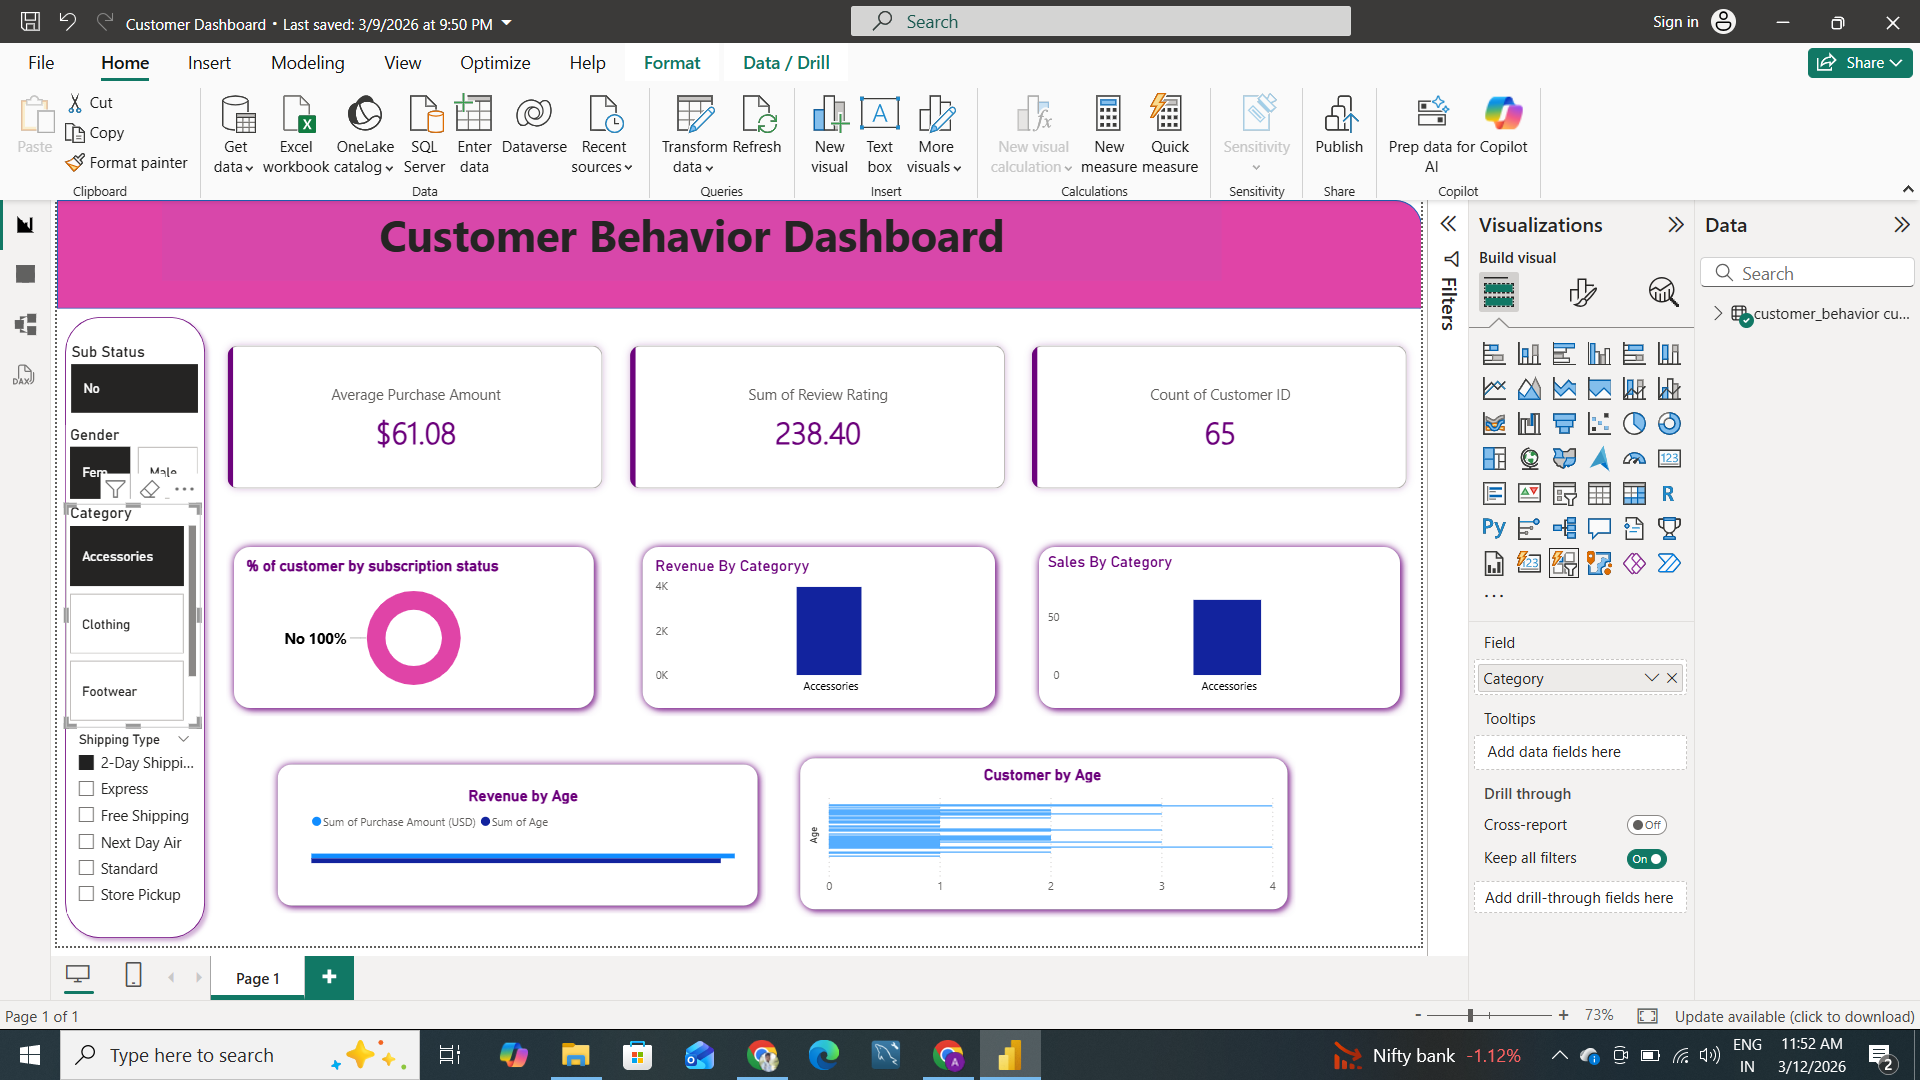

This screenshot's page, from the dashboard's own definition file:
{"tool":"powerbi","page":{"name":"Page 1","canvas":[1500,820],"ordinal":0},"visuals":[{"type":"cardVisual","fields":{"Data":["customer_behavior customers.Average Purchase Amount","Sum(customer_behavior customers.Review Rating)","CountNonNull(customer_behavior customers.Customer ID)"]},"box":[171.8,144.3,1328.7,189.6],"z":0},{"type":"shape","box":[0,0,1500.4,119.5],"z":1000},{"type":"textbox","box":[115.3,0,1165,89.2],"z":2000},{"type":"shape","box":[185.5,372.4,413.6,195.1],"z":3000},{"type":"donutChart","title":"% of customer by subscription status","fields":{"Category":["customer_behavior customers.Subscription Status"],"Y":["CountNonNull(customer_behavior customers.Customer ID)"]},"box":[203.4,391.6,377.9,160.8],"z":4000},{"type":"shape","box":[634.8,372.4,405.3,195.1],"z":5000},{"type":"shape","box":[1070.3,372.4,414.9,195.1],"z":6000},{"type":"clusteredColumnChart","title":"Revenue By Categoryy","fields":{"Y":["Sum(customer_behavior customers.Purchase Amount (USD))"],"Category":["customer_behavior customers.Category"]},"box":[652.7,391.6,372.4,160.8],"z":7000},{"type":"clusteredColumnChart","title":"Sales By Category","fields":{"Y":["CountNonNull(customer_behavior customers.Customer ID)"],"Category":["customer_behavior customers.Category"]},"box":[1084.1,387.5,386.1,164.9],"z":8000},{"type":"shape","box":[0,119.5,171.8,700.7],"z":9000},{"type":"advancedSlicerVisual","title":"Sub Status","fields":{"Values":["customer_behavior customers.Subscription Status"]},"box":[11,156.6,149.8,82.4],"z":10000},{"type":"advancedSlicerVisual","title":"Gender","fields":{"Values":["customer_behavior customers.Gender"]},"box":[9.6,247.3,151.1,86.6],"z":11000},{"type":"advancedSlicerVisual","title":"Category","fields":{"Values":["customer_behavior customers.Category"]},"box":[9.6,333.9,148.4,245.9],"z":12000},{"type":"slicer","fields":{"Values":["customer_behavior customers.Shipping Type"]},"box":[11,579.8,147,204.7],"z":13000},{"type":"shape","box":[233.6,611.4,545.5,173.1],"z":15000},{"type":"shape","box":[807.9,604.6,553.7,184.1],"z":16000},{"type":"clusteredBarChart","title":"Revenue by Age","fields":{"Y":["Sum(customer_behavior customers.Purchase Amount (USD))","Sum(customer_behavior customers.Age)"]},"box":[274.8,644.4,475.4,104.4],"z":17000},{"type":"clusteredBarChart","title":"Customer by Age","fields":{"Y":["CountNonNull(customer_behavior customers.Customer ID)"],"Category":["customer_behavior customers.Age"]},"box":[821.7,621,523.5,151.1],"z":18000}]}

Visuals, with their boxes on the page's 1500x820 design canvas (x1, y1, x2, y2). These are canvas units, not pixel positions in the 1920x1080 screenshot, which may show the page scaled, cropped or inside an application window:
cardVisual - customer_behavior customers.Average Purchase Amount x Sum(customer_behavior customers.Review Rating): left=172, top=144, right=1500, bottom=334
shape: left=0, top=0, right=1500, bottom=120
textbox: left=115, top=0, right=1280, bottom=89
shape: left=186, top=372, right=599, bottom=568
"% of customer by subscription status" donutChart: left=203, top=392, right=581, bottom=552
shape: left=635, top=372, right=1040, bottom=568
shape: left=1070, top=372, right=1485, bottom=568
"Revenue By Categoryy" clusteredColumnChart: left=653, top=392, right=1025, bottom=552
"Sales By Category" clusteredColumnChart: left=1084, top=388, right=1470, bottom=552
shape: left=0, top=120, right=172, bottom=820
"Sub Status" advancedSlicerVisual: left=11, top=157, right=161, bottom=239
"Gender" advancedSlicerVisual: left=10, top=247, right=161, bottom=334
"Category" advancedSlicerVisual: left=10, top=334, right=158, bottom=580
slicer - customer_behavior customers.Shipping Type: left=11, top=580, right=158, bottom=784
shape: left=234, top=611, right=779, bottom=784
shape: left=808, top=605, right=1362, bottom=789
"Revenue by Age" clusteredBarChart: left=275, top=644, right=750, bottom=749
"Customer by Age" clusteredBarChart: left=822, top=621, right=1345, bottom=772
